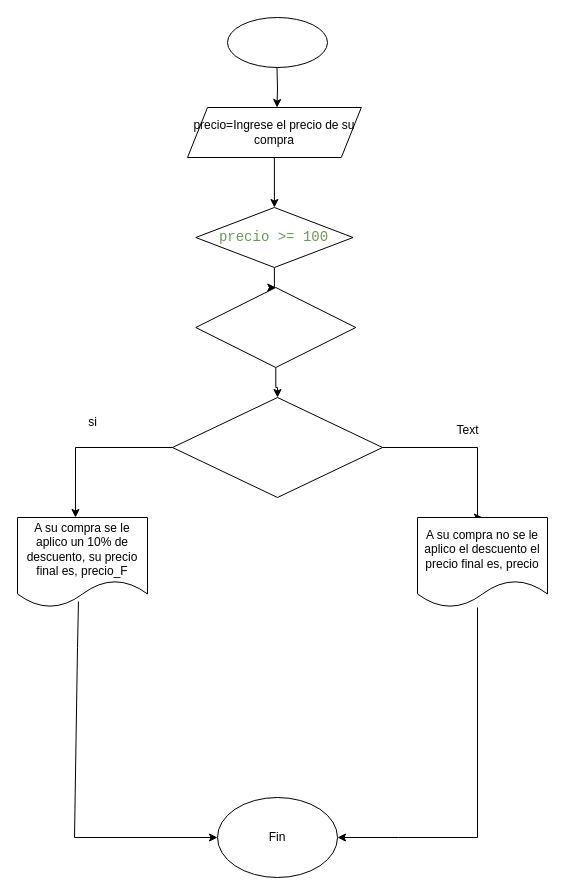
The diagram is 565 pixels wide and 895 high, and some of its shapes have lost their labels. The shapes that lost their labels are listed below. From the top down, each one's centre as x and y in pixels, then its label:
At pixel 277 42: "INICIO".
At pixel 275 327: "descuento=precio*0.10".
At pixel 277 447: "precio_F= precio-descuento".
